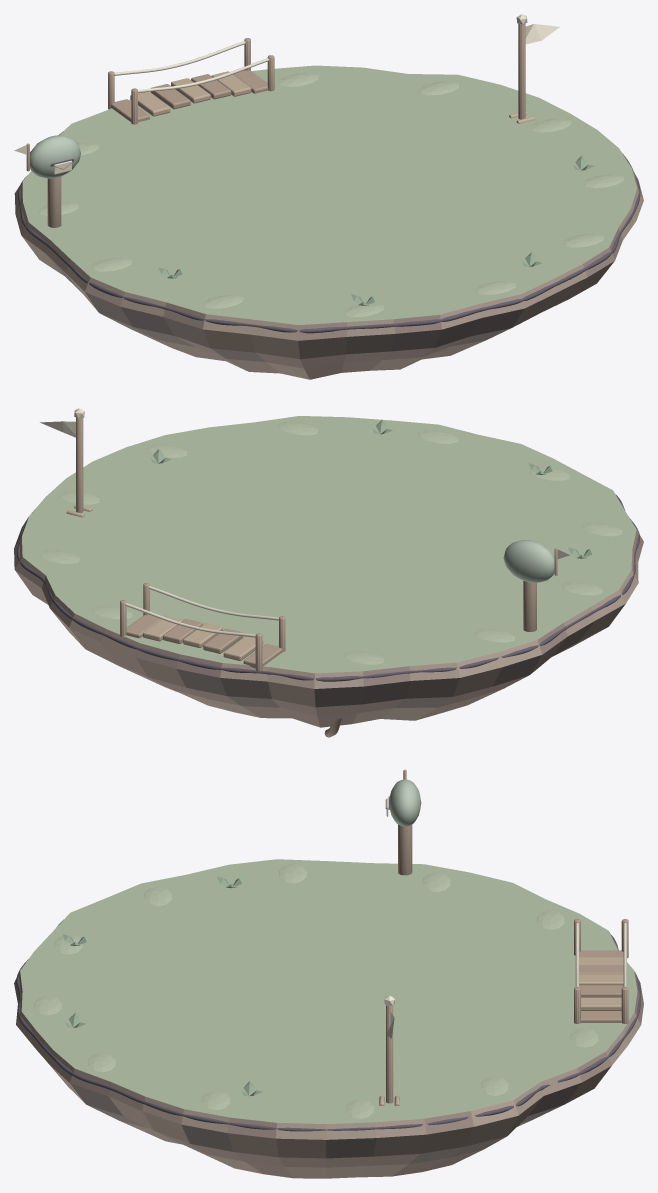
The model's file is env_meadow_arcade.glb.
The picture shows the model from 3 angles, top to bottom: view 1: azimuth 30°, elevation 25°; view 2: azimuth 150°, elevation 25°; view 3: azimuth 270°, elevation 25°; orthographic projection. The views are drawn at different scales.
Parts seen in each view (by area): view 1: island_flat_top_zero, island_dark_neutral_rim, meadow_round_postbox, wind_pennant_pole, mailbox_wood_post, meadow_bridge_worn_plank_02, meadow_bridge_worn_plank_01, meadow_bridge_worn_plank_03, bridge_linen_rope.001; view 2: island_flat_top_zero, island_dark_neutral_rim, meadow_round_postbox, wind_pennant_pole, mailbox_wood_post, meadow_bridge_worn_plank_02, meadow_bridge_worn_plank_01, meadow_bridge_worn_plank_03, bridge_linen_rope.001, bridge_linen_rope, meadow_bridge_worn_plank_04, meadow_bridge_worn_plank_05; view 3: island_flat_top_zero, island_dark_neutral_rim, meadow_round_postbox, mailbox_wood_post, wind_pennant_pole.
Part boxes in pixels (bbox=[...]): island_flat_top_zero: bbox=[14, 65, 643, 379]; island_dark_neutral_rim: bbox=[18, 131, 640, 333]; meadow_round_postbox: bbox=[30, 135, 80, 178]; wind_pennant_pole: bbox=[518, 23, 525, 119]; mailbox_wood_post: bbox=[47, 176, 61, 227]; meadow_bridge_worn_plank_02: bbox=[151, 84, 190, 109]; meadow_bridge_worn_plank_01: bbox=[130, 92, 170, 116]; meadow_bridge_worn_plank_03: bbox=[171, 78, 210, 103]; bridge_linen_rope.001: bbox=[114, 41, 245, 75]; island_flat_top_zero: bbox=[14, 416, 643, 727]; island_dark_neutral_rim: bbox=[17, 495, 639, 681]; meadow_round_postbox: bbox=[503, 540, 554, 582]; wind_pennant_pole: bbox=[76, 417, 83, 513]; mailbox_wood_post: bbox=[523, 581, 536, 631]; meadow_bridge_worn_plank_02: bbox=[203, 628, 242, 653]; meadow_bridge_worn_plank_01: bbox=[223, 636, 263, 660]; meadow_bridge_worn_plank_03: bbox=[183, 623, 222, 648]; bridge_linen_rope.001: bbox=[125, 603, 255, 637]; bridge_linen_rope: bbox=[148, 586, 278, 620]; meadow_bridge_worn_plank_04: bbox=[163, 619, 202, 643]; meadow_bridge_worn_plank_05: bbox=[143, 616, 182, 641]; island_flat_top_zero: bbox=[14, 859, 643, 1178]; island_dark_neutral_rim: bbox=[16, 919, 640, 1131]; meadow_round_postbox: bbox=[389, 779, 421, 826]; mailbox_wood_post: bbox=[398, 824, 412, 875]; wind_pennant_pole: bbox=[386, 1005, 393, 1103].
Bounding box in the file's own units: 9.25 × 3.99 × 8.96.
